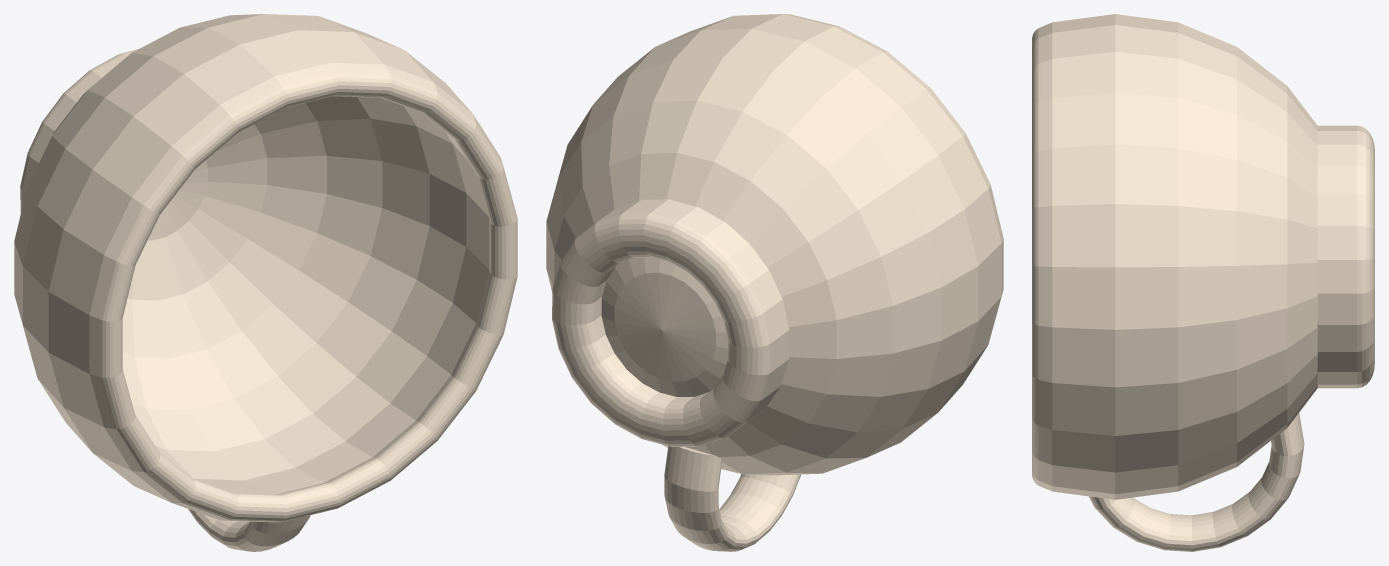
3 views of the same model, side by side, from view 1: azimuth 30°, elevation 25°; view 2: azimuth 150°, elevation 25°; view 3: azimuth 270°, elevation 25° (orthographic). The views are drawn at different scales.
Visible parts, largest first — view 1: cup; view 2: cup; view 3: cup.
Boxes of the visible parts, bbox=[...] form: cup: bbox=[14, 14, 517, 551]; cup: bbox=[546, 14, 1003, 551]; cup: bbox=[1032, 14, 1374, 551].
Size of the model in its own units: 197 by 227 by 140.
